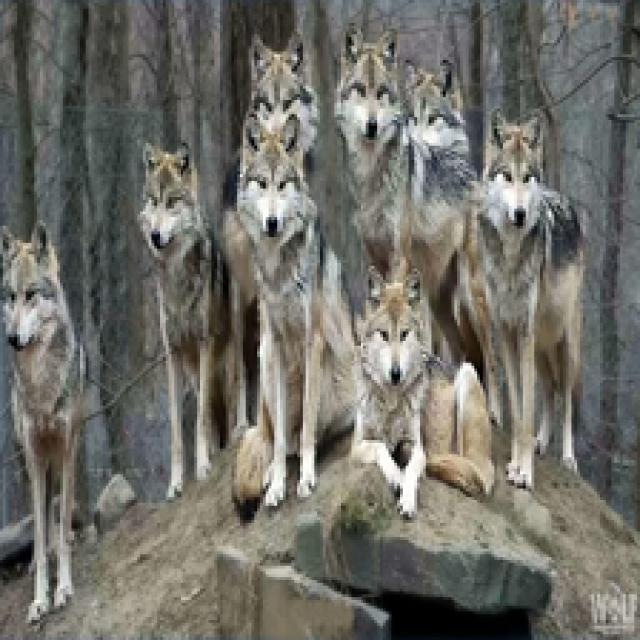wolf: (317, 23, 500, 352), (0, 209, 133, 613), (117, 129, 245, 515), (478, 109, 594, 481), (344, 282, 503, 501), (235, 32, 333, 215), (384, 32, 470, 136), (484, 111, 562, 170)
